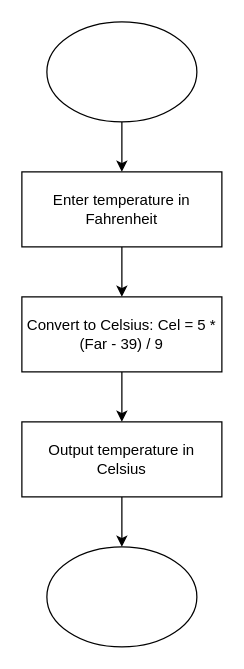
This 244x669 diagram has some shape labels left out. Here are the shapes that lost their labels. From the top down, the centre of each, then its label:
At (x=121, y=71): "Start".
At (x=121, y=596): "End".
